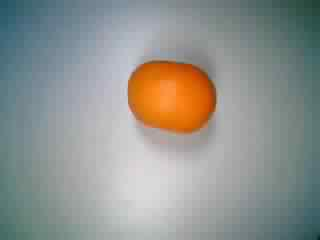orange: (126, 47, 217, 143)
